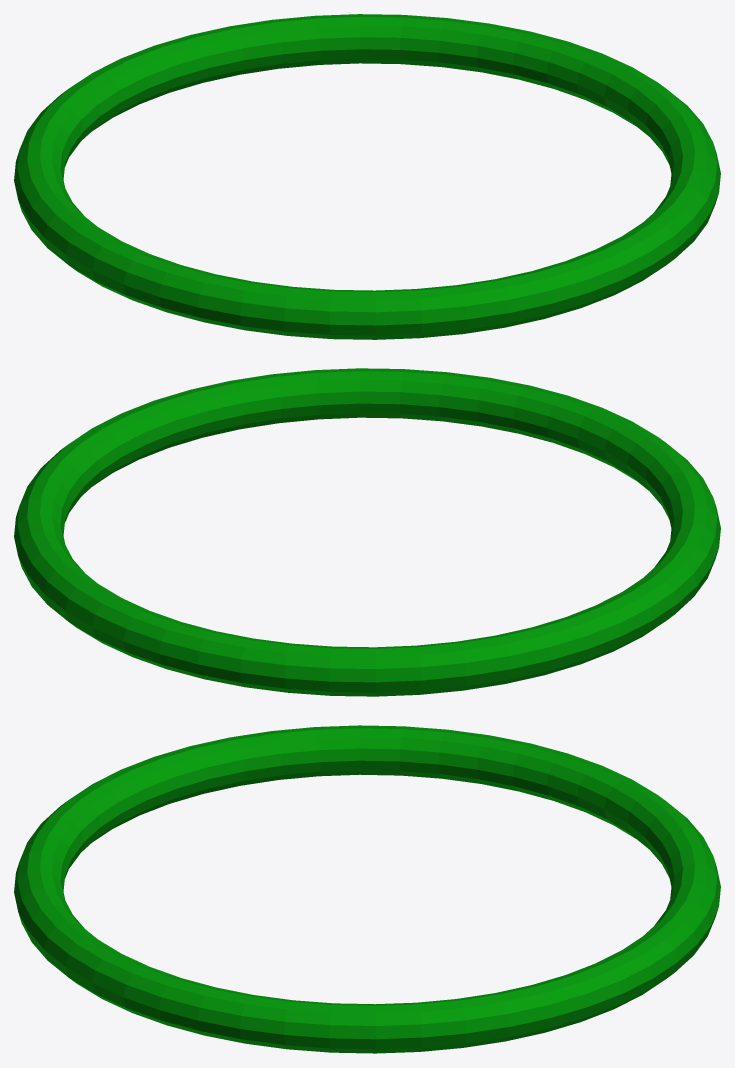
3 views of the same model, one above another, from view 1: azimuth 30°, elevation 25°; view 2: azimuth 150°, elevation 25°; view 3: azimuth 270°, elevation 25° (orthographic).
Visible parts, largest first — view 1: Torus_001; view 2: Torus_001; view 3: Torus_001.
Boxes of the visible parts, x1,y1,x2,y2 form: Torus_001: [14, 14, 720, 339]; Torus_001: [14, 368, 720, 696]; Torus_001: [14, 725, 720, 1053].
Size of the model in its own units: 8.48 by 8.48 by 0.6155.
